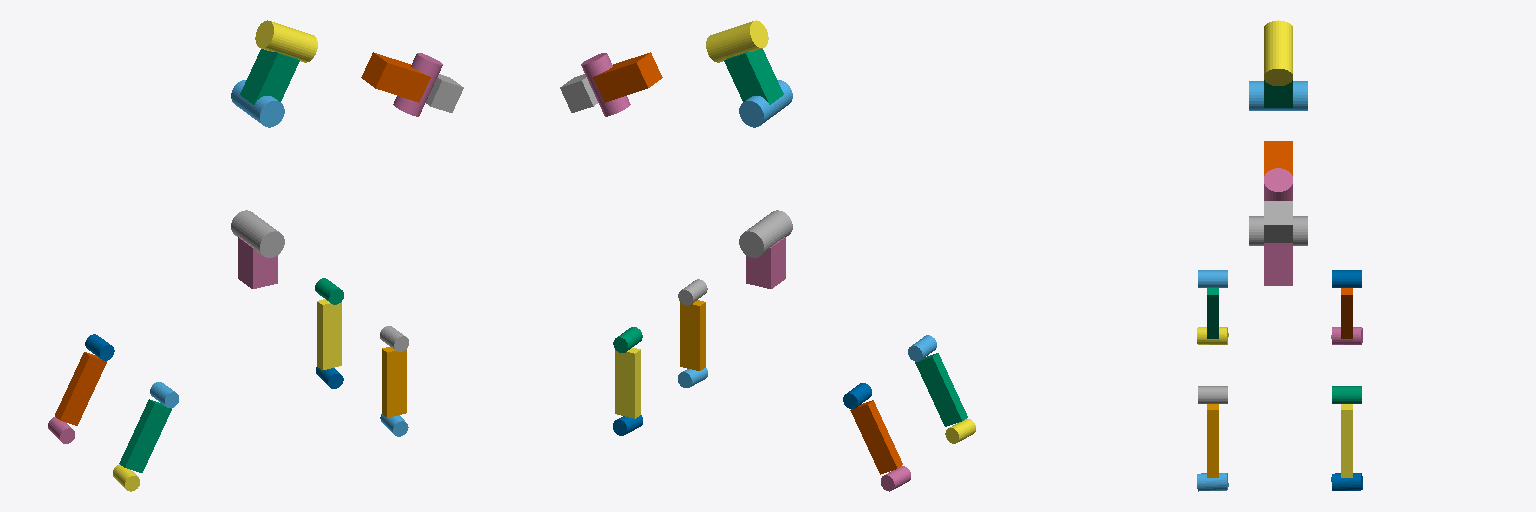
--- Facts derived from the render (not from the file) ---
3 views of the same robot in one strip: view 1: azimuth 30°, elevation 25°; view 2: azimuth 150°, elevation 25°; view 3: azimuth 270°, elevation 25° (orthographic).
Model quadruped_arm_robot with 32 links and 31 joints (17 revolute, 14 fixed), rooted at base_link, posed every joint at zero.
Visible links, largest first — view 1: Motor_square_3, Motor_square_2, backLeft_connector, backRight_connector, M3_50, frontLeft_connector, frontRight_connector, M1_100, Motor_square, M2_100, M4_50, endEfector; view 2: Motor_square_2, Motor_square_3, backLeft_connector, backRight_connector, frontLeft_connector, frontRight_connector, M3_50, M1_100, Motor_square, M2_100, M4_50, endEfector; view 3: M3_50, Motor_square, endEfector, M2_100, M1_100, frontLeft_connector, frontRight_connector, M4_50, Motor_square_3, Motor_square_2, backLeft_connector, backRight_connector (+4 smaller).
Boxes of the visible links, x1,y1,x2,y2 form: Motor_square_3: (361,52,430,102); Motor_square_2: (240,49,299,104); backLeft_connector: (55,352,106,425); backRight_connector: (119,399,171,472); M3_50: (255,20,317,62); frontLeft_connector: (317,299,341,370); frontRight_connector: (382,347,406,417); M1_100: (231,210,284,257); Motor_square: (238,237,277,288); M2_100: (231,80,284,127); M4_50: (393,53,442,116); endEfector: (426,74,463,112); Motor_square_2: (724,49,783,104); Motor_square_3: (593,52,662,102); backLeft_connector: (850,400,902,474); backRight_connector: (915,353,967,426); frontLeft_connector: (615,347,640,418); frontRight_connector: (680,300,705,370); M3_50: (706,20,768,62); M1_100: (739,210,792,257); Motor_square: (746,237,785,288); M2_100: (739,80,792,127); M4_50: (581,53,630,116); endEfector: (560,74,597,112); M3_50: (1264,20,1292,85); Motor_square: (1264,243,1292,285); endEfector: (1264,201,1292,242); M2_100: (1249,81,1307,110); M1_100: (1249,216,1307,245); frontLeft_connector: (1341,404,1352,477); frontRight_connector: (1207,404,1218,477); M4_50: (1264,168,1292,200); Motor_square_3: (1264,141,1292,175); Motor_square_2: (1264,80,1292,107); backLeft_connector: (1341,288,1352,338); backRight_connector: (1207,288,1218,338).
Size in the robot's own frame: 0.7426 by 0.2777 by 0.783 metres.
Geometry: only primitive shapes (box / cylinder / sphere) drawn; not drawn: 12 mesh visuals (reference in a form the renderer does not follow).

URDF robot description (quadruped_arm_robot):
<?xml version="1.0"?>
<robot name="quadruped_arm_robot">
  
  
 
  
  <link name="base_link">
    <inertial>
      <origin xyz="0  0 0"/>
      <mass value="0.400"/>
      <inertia ixx="0.0003" iyy="0.0003" izz="0.0003" ixy="0" ixz="0" iyz="0"/>
    </inertial>
    <visual>
    <origin xyz="0 0 0" rpy="0 0 0"/>
    <geometry>
      <mesh
        filename="[local-path]/ros2_orange/src/quadruped_arm_motion/meshes/Body.stl"
        scale="1 1 1"/>
    </geometry>
    </visual>
    <collision>
      <origin xyz="0 0 0" rpy="0 0 0"/>
      <geometry>
        <mesh
          filename="[local-path]/ros2_orange/src/quadruped_arm_motion/meshes/Body.stl"
          scale="1 1 1"/>
      </geometry>
      <surface>
        <friction>
          <ode>
            <mu>1.0</mu>
            <mu2>1.0</mu2>
          </ode>
        </friction>
        <contact>
          <ode>
            <kp>10</kp>
            <kd>50</kd>
          </ode>
        </contact>
      </surface>
    </collision>
  </link>
  
  <link name="frontLeft_hip_motor">
    <inertial><mass value="0.158"/><origin xyz="0 0 0"/>
      <inertia ixx="0.00016" iyy="0.00016" izz="0.00016" ixy="0" ixz="0" iyz="0"/></inertial>

    <inertial><mass value="0.158"/><origin xyz="0 0 0"/>
      <inertia ixx="0.00016" iyy="0.00016" izz="0.00016" ixy="0" ixz="0" iyz="0"/></inertial>
    <visual>
    <origin xyz="0.03 0.019 -0.08" rpy="0 0 0"/>
    <geometry>
      <mesh
        filename="[local-path]/ros2_orange/src/quadruped_arm_motion/meshes/servo_8y.stl"
        scale="1 1 1"/>
    </geometry>
    </visual>
    <collision>
      <origin xyz="0.03 0.019 -0.08" rpy="0 0 0"/>
      <geometry>
        <mesh
          filename="[local-path]/ros2_orange/src/quadruped_arm_motion/meshes/servo_8y.stl"
          scale="1 1 1"/>
      </geometry>
      <surface>
        <friction>
          <ode>
            <mu>1.0</mu>
            <mu2>1.0</mu2>
          </ode>
        </friction>
        <contact>
          <ode>
            <kp>10</kp>
            <kd>50</kd>
          </ode>
        </contact>
      </surface>
    </collision>
  </link>
  <joint name="frontLeft_hip_motor_joint" type="revolute">
    <parent link="base_link"/>
    <child  link="frontLeft_hip_motor"/>
    <origin xyz="0.235 0.03 0.03" rpy="0 1.5708 0"/>
    <axis xyz="0 0 1"/>
    <limit lower="-3.14" upper="3.14" effort="50.88" velocity="1"/>
    <dynamics damping="0.05" friction="2.5"/>
    <safety>
    <soft_lower_limit>-3.0</soft_lower_limit>
    <soft_upper_limit> 3.0</soft_upper_limit>
    <k_position> 50.0 </k_position>
    <k_velocity> 10.0  </k_velocity>
    </safety>
  </joint>

  <link name="frontLeft_knee">
    <inertial><mass value="0.001"/><origin xyz="0 0 0"/>
    <inertia ixx="0.00016" iyy="0.00016" izz="0.00016" ixy="0" ixz="0" iyz="0"/></inertial>
    <visual   ><geometry><cylinder radius="0.015" length="0.05"/></geometry></visual>
    <collision><geometry><cylinder radius="0.015" length="0.05"/></geometry>
    <surface><friction><ode><mu>1.0</mu><mu2>1.0</mu2></ode></friction><contact>
    <ode><kp>10</kp><kd>50</kd></ode></contact></surface>
    </collision>
  </link>
  <joint name="frontLeft_knee_joint" type="revolute">
    <parent link="frontLeft_hip_motor"/>
    <child  link="frontLeft_knee"/>
    <origin xyz="0.035 0.055 -0.025" rpy="1.5708 0 0"/>
    <axis xyz="0 0 1"/>
    <limit lower="-1.57" upper="1.57" effort="50.88" velocity="1"/>
    <dynamics damping="0.05" friction="2.5"/>
    <safety>
    <soft_lower_limit>-3.0</soft_lower_limit>
    <soft_upper_limit> 3.0</soft_upper_limit>
    <k_position> 50.0 </k_position>
    <k_velocity> 10.0  </k_velocity>
    </safety>
  </joint>
  <link name="frontLeft_connector">
    <inertial><mass value="0.05"/><origin xyz="0 0 0"/>
      <inertia ixx="0.00016" iyy="0.00016" izz="0.00016" ixy="0" ixz="0" iyz="0"/></inertial>
    <visual   ><geometry><box size="0.125 0.04 0.02" /></geometry></visual>
    <collision><geometry><box size="0.125 0.04 0.02" /></geometry>
    <surface><friction><ode><mu>1.0</mu><mu2>1.0</mu2></ode></friction><contact><ode><kp>10</kp><kd>50</kd></ode></contact></surface>
    </collision>
  </link>
  <joint name="frontLeft_connectorJoin" type="fixed">
    <parent link="frontLeft_knee"/>
    <child  link="frontLeft_connector"/>
    <origin xyz="0.08 0 0" rpy="0 0 0" />
    <axis xyz="0 0 1"/>
    <dynamics damping="0.05" friction="2.5"/>
    <safety>
    <soft_lower_limit>-3.0</soft_lower_limit>
    <soft_upper_limit> 3.0</soft_upper_limit>
    <param name="pos_kp">10</param>
    <param name="pos_ki">1</param>
    <param name="pos_kd">2</param>
    <param name="pos_max_integral_error">10000</param>
    <param name="vel_kp">10</param>
    <param name="vel_ki">5</param>
    <param name="vel_kd">2</param>
    <param name="vel_max_integral_error">10000</param>
    </safety>
  </joint> 

  <link name="frontLeft_ankle">
    <inertial><mass value="0.158"/><origin xyz="0 0 0"/>
    <inertia ixx="0.00016" iyy="0.00016" izz="0.00016" ixy="0" ixz="0" iyz="0"/></inertial>
    <visual   ><geometry><cylinder radius="0.015" length="0.05"/></geometry></visual>
     <collision><geometry><cylinder radius="0.015" length="0.05"/></geometry>
    <surface><friction><ode><mu>1.0</mu><mu2>1.0</mu2></ode>
    </friction><contact><ode><kp>10</kp><kd>50</kd></ode></contact></surface>
    </collision>
  </link>
  <joint name="frontLeft_ankle_joint" type="revolute">
    <parent link="frontLeft_connector"/>
    <child  link="frontLeft_ankle"/>
    <origin xyz="0.08 0 0" rpy="0.1 0 0.8"/>
    <axis xyz="0 0 1"/>
    <limit lower="-3.14" upper="3.14" effort="50.88" velocity="1"/>
    <dynamics damping="0.05" friction="2.5"/>
    <safety>
    <soft_lower_limit>-3.0</soft_lower_limit>
    <soft_upper_limit> 3.0</soft_upper_limit>
    <k_position> 50.0 </k_position>
    <k_velocity> 10.0  </k_velocity>
    </safety>
  </joint>

  <link name="frontLeft_foot">
    <inertial><mass value="0.03"/><origin xyz="0 0 0"/>
    <inertia ixx="2e-5" iyy="2e-5" izz="2e-5" ixy="0" ixz="0" iyz="0"/></inertial>
    <visual>
    <origin xyz="0 0 0" rpy="0 0 0"/>
    <geometry>
      <mesh
        filename="[local-path]/ros2_orange/src/quadruped_arm_motion/meshes/foot_3.stl"
        scale="1 1 1"/>
    </geometry>
    </visual>
    <collision>
    <origin xyz="0 0 0" rpy="0 0 0"/>
    <geometry>
      <mesh
        filename="[local-path]/ros2_orange/src/quadruped_arm_motion/meshes/foot_3.stl"
        scale="1 1 1"/>
    </geometry>
    <surface>
      <friction>
        <ode>
          <mu>1.0</mu>
          <mu2>1.0</mu2>
        </ode>
      </friction>
      <contact>
        <ode>
          <kp>10</kp>
          <kd>50</kd>
        </ode>
      </contact>
    </surface>
    </collision>
  </link>
  <joint name="frontLeft_foot_joint" type="fixed">
    <parent link="frontLeft_ankle"/>
    <child  link="frontLeft_foot"/>
    <origin xyz="0.06 0 0"/>
    <dynamics damping="0.05" friction="2.5"/>
     
    <safety>
    <soft_lower_limit>-3.0</soft_lower_limit>
    <soft_upper_limit> 3.0</soft_upper_limit>
    <k_position> 50.0 </k_position>
    <k_velocity> 10.0  </k_velocity>
    </safety>
  </joint>
 
  <link name="frontRight_hip_motor">
    <inertial><mass value="0.158"/><origin xyz="0 0 0"/>
      <inertia ixx="0.00016" iyy="0.00016" izz="0.00016" ixy="0" ixz="0" iyz="0"/></inertial>
    <visual>
    <origin xyz="0.03 0.005 -0.08" rpy="0 0 0"/>
    <geometry>
      <mesh
        filename="[local-path]/ros2_orange/src/quadruped_arm_motion/meshes/servo_7y.stl"
        scale="1 1 1"/>
    </geometry>
    </visual>
    <collision>
      <origin xyz="0.03 -0.005 -0.08" rpy="0 0 0"/>
      <geometry>
        <mesh
          filename="[local-path]/ros2_orange/src/quadruped_arm_motion/meshes/servo_7y.stl"
          scale="1 1 1"/>
      </geometry>
      <surface>
        <friction>
          <ode>
            <mu>1.0</mu>
            <mu2>1.0</mu2>
          </ode>
        </friction>
        <contact>
          <ode>
            <kp>10</kp>
            <kd>50</kd>
          </ode>
        </contact>
      </surface>
    </collision>
  </link>
  <joint name="frontRight_hip_motor_joint" type="revolute">
    <parent link="base_link"/>
    <child  link="frontRight_hip_motor"/>
    <origin xyz="0.235 -0.085 0.03" rpy="0 1.5708 0"/>
    <axis xyz="0 0 1"/>
    <limit lower="-3.14" upper="3.14" effort="50.88" velocity="1"/>
    <dynamics damping="0.05" friction="2.5"/>
    <safety>
    <soft_lower_limit>-3.0</soft_lower_limit>
    <soft_upper_limit> 3.0</soft_upper_limit>
    <k_position> 50.0 </k_position>
    <k_velocity> 10.0  </k_velocity>
    </safety>
  </joint>

  <link name="frontRight_knee">
    <inertial><mass value="0.158"/><origin xyz="0 0 0"/>
      <inertia ixx="0.00016" iyy="0.00016" izz="0.00016" ixy="0" ixz="0" iyz="0"/></inertial>
    <visual   ><geometry><cylinder radius="0.015" length="0.05"/></geometry></visual>
    <collision><geometry><cylinder radius="0.015" length="0.05"/></geometry>
    <surface><friction><ode><mu>1.0</mu><mu2>1.0</mu2></ode></friction><contact><ode><kp>10</kp><kd>50</kd></ode></contact></surface>
    </collision>
  </link>
  <joint name="frontRight_knee_joint" type="revolute">
    <parent link="frontRight_hip_motor"/>
    <child  link="frontRight_knee"/>
    <origin xyz="0.035 -0.055 -0.025" rpy="1.5708 0 0"/>
    <axis xyz="0 0 1"/>
    <limit lower="-1.57" upper="1.57" effort="50.88" velocity="1"/>
    <dynamics damping="0.05" friction="2.5"/>
    <safety>
    <soft_lower_limit>-3.0</soft_lower_limit>
    <soft_upper_limit> 3.0</soft_upper_limit>
    <k_position> 50.0 </k_position>
    <k_velocity> 10.0  </k_velocity>
    </safety>
  </joint>

  <link name="frontRight_connector">
    <inertial><mass value="0.05"/><origin xyz="0 0 0"/>
      <inertia ixx="0.00016" iyy="0.00016" izz="0.00016" ixy="0" ixz="0" iyz="0"/></inertial>
    <visual   ><geometry><box size="0.125 0.04 0.02" /></geometry></visual>
    <collision><geometry><box size="0.125 0.04 0.02" /></geometry>
    <surface><friction><ode><mu>1.0</mu><mu2>1.0</mu2></ode></friction><contact><ode><kp>10</kp><kd>50</kd></ode></contact></surface>
    </collision>
  </link>
  <joint name="frontRight_connectorJoin" type="fixed">
    <parent link="frontRight_knee"/>
    <child  link="frontRight_connector"/>
    <origin xyz="0.08 0 0" rpy="0 0 0" />
    <axis xyz="0 0 1"/>
    <dynamics damping="0.05" friction="2.5"/>
    <safety>
    <soft_lower_limit>-3.0</soft_lower_limit>
    <soft_upper_limit> 3.0</soft_upper_limit>
    <param name="pos_kp">10</param>
    <param name="pos_ki">1</param>
    <param name="pos_kd">2</param>
    <param name="pos_max_integral_error">10000</param>
    <param name="vel_kp">10</param>
    <param name="vel_ki">5</param>
    <param name="vel_kd">2</param>
    <param name="vel_max_integral_error">10000</param>
    </safety>
  </joint> 


  <link name="frontRight_ankle">
    <inertial><mass value="0.158"/><origin xyz="0 0 0"/>
    <inertia ixx="0.00016" iyy="0.00016" izz="0.00016" ixy="0" ixz="0" iyz="0"/></inertial>
    <visual   ><geometry><cylinder radius="0.015" length="0.05"/></geometry></visual>
     <collision><geometry><cylinder radius="0.015" length="0.05"/></geometry>
    <surface><friction><ode><mu>1.0</mu><mu2>1.0</mu2></ode>
    </friction><contact><ode><kp>10</kp><kd>50</kd></ode></contact></surface>
    </collision>
  </link>
  <joint name="frontRight_ankle_joint" type="revolute">
    <parent link="frontRight_connector"/>
    <child  link="frontRight_ankle"/>
    <origin xyz="0.08 0 0" rpy="0.1 0 0.8"/>
    <axis xyz="0 0 1"/>
    <limit lower="-3.14" upper="3.14" effort="50.88" velocity="1"/>
    <dynamics damping="0.05" friction="2.5"/>
    <safety>
    <soft_lower_limit>-3.0</soft_lower_limit>
    <soft_upper_limit> 3.0</soft_upper_limit>
    <k_position> 50.0 </k_position>
    <k_velocity> 10.0  </k_velocity>
    </safety>
  </joint>

  <link name="frontRight_foot">
    <inertial><mass value="0.03"/><origin xyz="0 0 0"/>
      <inertia ixx="2e-5" iyy="2e-5" izz="2e-5" ixy="0" ixz="0" iyz="0"/></inertial>
    <visual>
    <origin xyz="0 0 0" rpy="0 0 0"/>
    <geometry>
      <mesh
        filename="[local-path]/ros2_orange/src/quadruped_arm_motion/meshes/foot_3.stl"
        scale="1 1 1"/>
    </geometry>
    </visual>
    <collision>
    <origin xyz="0 0 0" rpy="0 0 0"/>
    <geometry>
      <mesh
        filename="[local-path]/ros2_orange/src/quadruped_arm_motion/meshes/foot_3.stl"
        scale="1 1 1"/>
    </geometry>
    <surface>
      <friction>
        <ode>
          <mu>1.0</mu>
          <mu2>1.0</mu2>
        </ode>
      </friction>
      <contact>
        <ode>
          <kp>10</kp>
          <kd>50</kd>
        </ode>
      </contact>
    </surface>
    </collision>
  </link>
  <joint name="frontRight_foot_joint" type="fixed">
    <parent link="frontRight_ankle"/>
    <child  link="frontRight_foot"/>
    <origin xyz="0.06 0 0"/>
     
    <dynamics damping="0.05" friction="2.5"/>
    <safety>
    <soft_lower_limit>-3.0</soft_lower_limit>
    <soft_upper_limit> 3.0</soft_upper_limit>
    <k_position> 50.0 </k_position>
    <k_velocity> 10.0  </k_velocity>
    </safety>
  </joint>
  
  <link name="backLeft_hip_motor">
    <inertial><mass value="0.158"/><origin xyz="0 0 0"/>
    <inertia ixx="0.00016" iyy="0.00016" izz="0.00016" ixy="0" ixz="0" iyz="0"/></inertial>
    <visual>
    <origin xyz="0.035 0.035 -0.05" rpy="0 0 0"/> <!-- Altuura dentro -lado -->
    <geometry>
      <mesh
        filename="[local-path]/ros2_orange/src/quadruped_arm_motion/meshes/servo_8y.stl"
        scale="1 1 1"/>
    </geometry>
    </visual>
    <collision>
      <origin xyz="0.035 0.035 -0.05" rpy="0 0 0"/>
      <geometry>
        <mesh
          filename="[local-path]/ros2_orange/src/quadruped_arm_motion/meshes/servo_8y.stl"
          scale="1 1 1"/>
      </geometry>
      <surface>
        <friction>
          <ode>
            <mu>1.0</mu>
            <mu2>1.0</mu2>
          </ode>
        </friction>
        <contact>
          <ode>
            <kp>10</kp>
            <kd>50</kd>
          </ode>
        </contact>
      </surface>
    </collision>
  </link>
  <joint name="backLeft_hip_motor_joint" type="revolute">
    <parent link="base_link"/>
    <child  link="backLeft_hip_motor"/>
    <origin xyz="-0.275 0.03 0.03" rpy="0 1.5708 0"/>
    <axis xyz="0 0 1"/>
    <limit lower="-3.14" upper="3.14" effort="50.88" velocity="1"/>
    <dynamics damping="0.05" friction="2.5"/>
    <safety>
    <soft_lower_limit>-3.0</soft_lower_limit>
    <soft_upper_limit> 3.0</soft_upper_limit>
    <k_position> 50.0 </k_position>
    <k_velocity> 10.0  </k_velocity>
    </safety>
  </joint>

  <link name="backLeft_knee">
    <inertial><mass value="0.158"/><origin xyz="0 0 0"/>
      <inertia ixx="0.00016" iyy="0.00016" izz="0.00016" ixy="0" ixz="0" iyz="0"/></inertial>
    <visual   ><geometry><cylinder radius="0.015" length="0.05"/></geometry></visual>
    <collision><geometry><cylinder radius="0.015" length="0.05"/></geometry>
    <surface><friction><ode><mu>1.0</mu><mu2>1.0</mu2></ode></friction><contact><ode><kp>10</kp><kd>50</kd></ode></contact></surface>
    </collision>
  </link>
  <joint name="backLeft_knee_joint" type="revolute">
    <parent link="backLeft_hip_motor"/>
    <child  link="backLeft_knee"/>
    <origin xyz="0.035 0.055 0.025" rpy="1.5708 0.5 0"/>
    <axis xyz="0 0 1"/>
    <limit lower="-1.57" upper="1.57" effort="50.88" velocity="1"/>
    <dynamics damping="0.05" friction="2.5"/>
    <safety>
    <soft_lower_limit>-3.0</soft_lower_limit>
    <soft_upper_limit> 3.0</soft_upper_limit>
    <k_position> 50.0 </k_position>
    <k_velocity> 10.0  </k_velocity>
    </safety>
  </joint>

  <link name="backLeft_connector">
    <inertial><mass value="0.05"/><origin xyz="0 0 0"/>
      <inertia ixx="0.00016" iyy="0.00016" izz="0.00016" ixy="0" ixz="0" iyz="0"/></inertial>
    <visual   ><geometry><box size="0.125 0.04 0.02" /></geometry></visual>
    <collision><geometry><box size="0.125 0.04 0.02" /></geometry>
    <surface><friction><ode><mu>1.0</mu><mu2>1.0</mu2></ode></friction><contact><ode><kp>10</kp><kd>50</kd></ode></contact></surface>
    </collision>
  </link>
  <joint name="backLeft_connectorJoin" type="fixed">
    <parent link="backLeft_knee"/>
    <child  link="backLeft_connector"/>
    <origin xyz="0.08 0 0" rpy="0 0 0" />
    <axis xyz="0 0 1"/>
    <dynamics damping="0.05" friction="2.5"/>
    <safety>
    <soft_lower_limit>-3.0</soft_lower_limit>
    <soft_upper_limit> 3.0</soft_upper_limit>
    <param name="pos_kp">10</param>
    <param name="pos_ki">1</param>
    <param name="pos_kd">2</param>
    <param name="pos_max_integral_error">10000</param>
    <param name="vel_kp">10</param>
    <param name="vel_ki">5</param>
    <param name="vel_kd">2</param>
    <param name="vel_max_integral_error">10000</param>
    </safety>
  </joint>

  <link name="backLeft_ankle">
    <inertial><mass value="0.158"/><origin xyz="0 0 0"/>
    <inertia ixx="0.00016" iyy="0.00016" izz="0.00016" ixy="0" ixz="0" iyz="0"/></inertial>
    <visual   ><geometry><cylinder radius="0.015" length="0.05"/></geometry></visual>
     <collision><geometry><cylinder radius="0.015" length="0.05"/></geometry>
    <surface><friction><ode><mu>1.0</mu><mu2>1.0</mu2></ode>
    </friction><contact><ode><kp>10</kp><kd>50</kd></ode></contact></surface>
    </collision>
  </link>
  <joint name="backLeft_ankle_joint" type="revolute">
    <parent link="backLeft_connector"/>
    <child  link="backLeft_ankle"/>
    <origin xyz="0.08 0 0" rpy="0.1 0 0.8"/>
    <axis xyz="0 0 1"/>
    <limit lower="-3.14" upper="3.14" effort="50.88" velocity="1"/>
    <dynamics damping="0.05" friction="2.5"/>
    <safety>
    <soft_lower_limit>-3.0</soft_lower_limit>
    <soft_upper_limit> 3.0</soft_upper_limit>
    <k_position> 50.0 </k_position>
    <k_velocity> 10.0  </k_velocity>
    </safety>
  </joint>

  <link name="backLeft_foot">
    <inertial><mass value="0.03"/><origin xyz="0 0 0"/>
      <inertia ixx="2e-5" iyy="2e-5" izz="2e-5" ixy="0" ixz="0" iyz="0"/></inertial>
    <visual>
    <origin xyz="0 0 0" rpy="0 0 0"/>
    <geometry>
      <mesh
        filename="[local-path]/ros2_orange/src/quadruped_arm_motion/meshes/foot_3.stl"
        scale="1 1 1"/>
    </geometry>
    </visual>
    <collision>
    <origin xyz="0 0 0" rpy="0 0 0"/>
    <geometry>
      <mesh
        filename="[local-path]/ros2_orange/src/quadruped_arm_motion/meshes/foot_3.stl"
        scale="1 1 1"/>
    </geometry>
    <surface>
      <friction>
        <ode>
          <mu>1.0</mu>
          <mu2>1.0</mu2>
        </ode>
      </friction>
      <contact>
        <ode>
          <kp>10</kp>
          <kd>50</kd>
        </ode>
      </contact>
    </surface>
    </collision>
  </link>
  <joint name="backLeft_foot_joint" type="fixed">
    <parent link="backLeft_ankle"/>
    <child  link="backLeft_foot"/>
    <origin xyz="0.06 0 0"/>
     
    <dynamics damping="0.05" friction="2.5"/>
    <safety>
    <soft_lower_limit>-3.0</soft_lower_limit>
    <soft_upper_limit> 3.0</soft_upper_limit>
    <k_position> 50.0 </k_position>
    <k_velocity> 10.0  </k_velocity>
    </safety>
  </joint>
 
  <link name="backRight_hip_motor">
    <inertial><mass value="0.158"/><origin xyz="0 0 0"/>
      <inertia ixx="0.00016" iyy="0.00016" izz="0.00016" ixy="0" ixz="0" iyz="0"/></inertial>
    <visual>
    <origin xyz="0.035 0.021  -0.06" rpy="0 0 0"/>
    <geometry>
      <mesh
        filename="[local-path]/ros2_orange/src/quadruped_arm_motion/meshes/servo_7y.stl"
        scale="1 1 1"/>
    </geometry>
    </visual>
    <collision>
      <origin xyz="0.045 0.015  -0.06" rpy="0 0 0"/>
      <geometry>
        <mesh
          filename="[local-path]/ros2_orange/src/quadruped_arm_motion/meshes/servo_7y.stl"
          scale="1 1 1"/>
      </geometry>
      <surface>
        <friction>
          <ode>
            <mu>1.0</mu>
            <mu2>1.0</mu2>
          </ode>
        </friction>
        <contact>
          <ode>
            <kp>10</kp>
            <kd>50</kd>
          </ode>
        </contact>
      </surface>
    </collision>
  </link>
  <joint name="backRight_hip_motor_joint" type="revolute">
    <parent link="base_link"/>
    <child  link="backRight_hip_motor"/>
    <origin xyz="-0.275 -0.085 0.03" rpy="0 1.5708 0"/>
    <axis xyz="0 0 1"/>
    <limit lower="-3.14" upper="3.14" effort="50.88" velocity="1"/>
    <dynamics damping="0.05" friction="2.5"/>
    <safety>
    <soft_lower_limit>-3.0</soft_lower_limit>
    <soft_upper_limit> 3.0</soft_upper_limit>
    <k_position> 50.0 </k_position>
    <k_velocity> 10.0  </k_velocity>
    </safety>
  </joint>
  
  <link name="backRight_knee">
    <inertial><mass value="0.158"/><origin xyz="0.1 0.1 0"/>
      <inertia ixx="0.00016" iyy="0.00016" izz="0.00016" ixy="0" ixz="0" iyz="0"/></inertial>
    <visual   ><geometry><cylinder radius="0.015" length="0.05"/></geometry></visual>
    <collision><geometry><cylinder radius="0.015" length="0.05"/></geometry>
    <surface><friction><ode><mu>1.0</mu><mu2>1.0</mu2></ode>
    </friction><contact><ode><kp>10</kp><kd>50</kd></ode></contact></surface>
    </collision>
  </link>
  <joint name="backRight_knee_joint" type="revolute">
    <parent link="backRight_hip_motor"/>
    <child  link="backRight_knee"/>
    <origin xyz="0.035 -0.055 0.025" rpy="1.5708 0.5 0"/>
    <axis xyz="0 0 1"/>
    <limit lower="-1.57" upper="1.57" effort="50.88" velocity="1"/>
    <dynamics damping="0.05" friction="2.5"/>
    <safety>
    <soft_lower_limit>-3.0</soft_lower_limit>
    <soft_upper_limit> 3.0</soft_upper_limit>
    <k_position> 50.0 </k_position>
    <k_velocity> 10.0  </k_velocity>
  </safety>
  </joint>

  <link name="backRight_connector">
    <inertial><mass value="0.05"/><origin xyz="0 0 0"/>
      <inertia ixx="0.00016" iyy="0.00016" izz="0.00016" ixy="0" ixz="0" iyz="0"/></inertial>
    <visual   ><geometry><box size="0.125 0.04 0.02" /></geometry></visual>
    <collision><geometry><box size="0.125 0.04 0.02" /></geometry>
    <surface><friction><ode><mu>1.0</mu><mu2>1.0</mu2></ode></friction><contact><ode><kp>10</kp><kd>50</kd></ode></contact></surface>
    </collision>
  </link>
  <joint name="backRight_connectorJoin" type="fixed">
    <parent link="backRight_knee"/>
    <child  link="backRight_connector"/>
    <origin xyz="0.08 0 0" rpy="0 0 0" />
    <axis xyz="0 0 1"/>
    <dynamics damping="0.05" friction="2.5"/>
    <safety>
    <soft_lower_limit>-3.0</soft_lower_limit>
    <soft_upper_limit> 3.0</soft_upper_limit>
    <param name="pos_kp">10</param>
    <param name="pos_ki">1</param>
    <param name="pos_kd">2</param>
    <param name="pos_max_integral_error">10000</param>
    <param name="vel_kp">10</param>
    <param name="vel_ki">5</param>
    <param name="vel_kd">2</param>
    <param name="vel_max_integral_error">10000</param>
    </safety>
  </joint>

  <link name="backRight_ankle">
    <inertial><mass value="0.158"/><origin xyz="0 0 0"/>
    <inertia ixx="0.00016" iyy="0.00016" izz="0.00016" ixy="0" ixz="0" iyz="0"/></inertial>
     <visual   ><geometry><cylinder radius="0.015" length="0.05"/></geometry></visual>
     <collision><geometry><cylinder radius="0.015" length="0.05"/></geometry>
    <surface><friction><ode><mu>1.0</mu><mu2>1.0</mu2></ode>
    </friction><contact><ode><kp>10</kp><kd>50</kd></ode></contact></surface>
    </collision>
  </link>
  <joint name="backRight_ankle_joint" type="revolute">
    <parent link="backRight_connector"/>
    <child  link="backRight_ankle"/>
    <origin xyz="0.08 0 0" rpy="0.1 0 0.8"/>
    <axis xyz="0 0 1"/>
    <limit lower="-3.14" upper="3.14" effort="50.88" velocity="1"/>
    <dynamics damping="0.05" friction="2.5"/>
    <safety>
    <soft_lower_limit>-3.0</soft_lower_limit>
    <soft_upper_limit> 3.0</soft_upper_limit>
    <k_position> 50.0 </k_position>
    <k_velocity> 10.0  </k_velocity>
    </safety>
  </joint>

  <link name="backRight_foot">
    <inertial><mass value="0.03"/><origin xyz="0 0 0" rpy="0 0 0"/>
    <inertia ixx="2e-5" iyy="2e-5" izz="2e-5" ixy="0" ixz="0" iyz="0"/></inertial>
    <visual>
    <origin xyz="0 0 0" rpy="0 0 0"/>
    <geometry>
      <mesh
        filename="[local-path]/ros2_orange/src/quadruped_arm_motion/meshes/foot_3.stl"
        scale="1 1 1"/>
    </geometry>
    </visual>
    <collision>
      <origin xyz="0 0 0" rpy="0 0 0"/>
      <geometry>
        <mesh
          filename="[local-path]/ros2_orange/src/quadruped_arm_motion/meshes/foot_3.stl"
          scale="1 1 1"/>
      </geometry>
      <surface>
        <friction>
          <ode>
            <mu>1.0</mu>
            <mu2>1.0</mu2>
          </ode>
        </friction>
        <contact>
          <ode>
            <kp>10</kp>
            <kd>50</kd>
          </ode>
        </contact>
      </surface>
    </collision>
  </link>
  <joint name="backRight_foot_joint" type="fixed">
    <parent link="backRight_ankle"/>
    <child  link="backRight_foot"/>
    <origin xyz="0.06 0 0"/>
    <dynamics damping="0.05" friction="2.5"/>
    <safety>
    <soft_lower_limit>-3.0</soft_lower_limit>
    <soft_upper_limit> 3.0</soft_upper_limit>
    <k_position> 50.0 </k_position>
    <k_velocity> 10.0  </k_velocity>
  </safety>
  </joint>

  <link name="M0_big">
    <inertial><mass value="0.158"/><origin xyz="0 0 0"/>
      <inertia ixx="0.00016" iyy="0.00016" izz="0.00016" ixy="0" ixz="0" iyz="0"/></inertial>
    <visual>
    <origin xyz="0.04 0 -0.02" rpy="0 0 0"/>
    <geometry>
      <mesh
        filename="[local-path]/ros2_orange/src/quadruped_arm_motion/meshes/M0.stl"
        scale="1 1 1"/>
    </geometry>
    </visual>0
    <collision>
      <origin xyz="0.04 0 -0.02" rpy="0 0 0"/>
      <geometry>
        <mesh
          filename="[local-path]/ros2_orange/src/quadruped_arm_motion/meshes/M0.stl"
          scale="1 1 1"/>
      </geometry>
      <surface>
        <friction>
          <ode>
            <mu>1.0</mu>
            <mu2>1.0</mu2>
          </ode>
        </friction>
        <contact>
          <ode>
            <kp>10</kp>
            <kd>50</kd>
          </ode>
        </contact>
      </surface>
    </collision>
  </link>
  <joint name="articulacion1" type="revolute">
    <parent link="base_link"/>
    <child  link="M0_big"/>
    <origin xyz="0 -0.03 0.1" rpy="0 0 0"/>
    <axis xyz="0 0 1"/>
    <limit lower="-1.14" upper="1.14" effort="49.03325" velocity="1"/>
    <dynamics damping="0.05" friction="2.5"/>
    <safety>
    <soft_lower_limit>-1.0</soft_lower_limit>
    <soft_upper_limit> 1.0</soft_upper_limit>
    <param name="pos_kp">10</param>
    <param name="pos_ki">1</param>
    <param name="pos_kd">2</param>
    <param name="pos_max_integral_error">10000</param>
    <param name="vel_kp">10</param>
    <param name="vel_ki">5</param>
    <param name="vel_kd">2</param>
    <param name="vel_max_integral_error">10000</param>
    </safety>
  </joint>
  <link name="Motor_square">
    <inertial><mass value="0.08158"/><origin xyz="0 0 0"/>
      <inertia ixx="0.00016" iyy="0.00016" izz="0.00016" ixy="0" ixz="0" iyz="0"/></inertial>
    <visual   ><geometry><box size="0.05 0.05 0.08" /></geometry></visual>
    <collision><geometry><box size="0.05 0.05 0.08" /></geometry>
    <surface><friction><ode><mu>1.0</mu><mu2>1.0</mu2></ode></friction><contact><ode><kp>10</kp><kd>50</kd></ode></contact></surface>
    </collision>
  </link>
  <joint name="Motor_square_Join" type="fixed">
    <parent link="M0_big"/>
    <child  link="Motor_square"/>
    <origin xyz="0.0 0 0.05" rpy="0 0 0" />
    <axis xyz="0 0 0"/>
    <dynamics damping="0.05" friction="2.5"/>
    <safety>
    <soft_lower_limit>-3.0</soft_lower_limit>
    <soft_upper_limit> 3.0</soft_upper_limit>
    <param name="pos_kp">10</param>
    <param name="pos_ki">1</param>
    <param name="pos_kd">2</param>
    <param name="pos_max_integral_error">10000</param>
    <param name="vel_kp">10</param>
    <param name="vel_ki">5</param>
    <param name="vel_kd">2</param>
    <param name="vel_max_integral_error">10000</param>
    </safety>
  </joint> 

  <link name="M1_100">
    <inertial><mass value="0.158"/><origin xyz="0 0 0"/>
      <inertia ixx="0.00016" iyy="0.00016" izz="0.00016" ixy="0" ixz="0" iyz="0"/></inertial>
    <visual   ><geometry><cylinder radius="0.025" length="0.1"/></geometry></visual>
    <collision><geometry><cylinder radius="0.025" length="0.1"/></geometry>
    <surface><friction><ode><mu>1.0</mu><mu2>1.0</mu2></ode></friction><contact><ode><kp>10</kp><kd>50</kd></ode></contact></surface>
    </collision>
  </link>
  <joint name="articulacion2" type="revolute">
    <parent link="Motor_square"/>
    <child  link="M1_100"/>
    <origin xyz="0.0 0 0.05" rpy="-1.5708 0.0 0" />
    <axis xyz="0 0 1"/>
   <limit lower="-1.14" upper="1.14" effort="49.03325" velocity="1"/>
    <dynamics damping="0.05" friction="2.5"/>
    <safety>
    <soft_lower_limit>-1.0</soft_lower_limit>
    <soft_upper_limit> 1.0</soft_upper_limit>
    <param name="pos_kp">10</param>
    <param name="pos_ki">1</param>
    <param name="pos_kd">2</param>
    <param name="pos_max_integral_error">10000</param>
    <param name="vel_kp">10</param>
    <param name="vel_ki">5</param>
    <param name="vel_kd">2</param>
    <param name="vel_max_integral_error">10000</param>
    </safety>
  </joint>
  <link name="Connector_1">
    <inertial><mass value="0.05"/><origin xyz="0 0 0"/>
      <inertia ixx="0.00016" iyy="0.00016" izz="0.00016" ixy="0" ixz="0" iyz="0"/></inertial>
    <visual>
    <origin xyz="0.0 0 0" rpy="0 1.578 0"/>
    <geometry>
      <mesh
        filename="[local-path]/ros2_orange/src/quadruped_arm_motion/meshes/arm_200.stl"
        scale="1 1 1"/>
    </geometry>
    </visual>
    <collision>
      <origin xyz="0.0 0 0" rpy="0 1.578 0"/>
      <geometry>
        <mesh
          filename="[local-path]/ros2_orange/src/quadruped_arm_motion/meshes/arm_200.stl"
          scale="1 1 1"/>
      </geometry>
      <surface>
        <friction>
          <ode>
            <mu>1.0</mu>
            <mu2>1.0</mu2>
          </ode>
        </friction>
        <contact>
          <ode>
            <kp>10</kp>
            <kd>50</kd>
          </ode>
        </contact>
      </surface>
    </collision>
  </link>
  <joint name="Connector_1_join" type="fixed">
    <parent link="M1_100"/>
    <child  link="Connector_1"/>
    <origin xyz="0.0 0 0" rpy="0 0 0" />
    <axis xyz="0 0 1"/>
    <dynamics damping="0.05" friction="2.5"/>
    <safety>
    <soft_lower_limit>-3.0</soft_lower_limit>
    <soft_upper_limit> 3.0</soft_upper_limit>
    <param name="pos_kp">10</param>
    <param name="pos_ki">1</param>
    <param name="pos_kd">2</param>
    <param name="pos_max_integral_error">10000</param>
    <param name="vel_kp">10</param>
    <param name="vel_ki">5</param>
    <param name="vel_kd">2</param>
    <param name="vel_max_integral_error">10000</param>
    </safety>
  </joint>
  <link name="M2_100">
    <inertial><mass value="0.08158"/><origin xyz="0 0 0"/>
      <inertia ixx="0.00016" iyy="0.00016" izz="0.00016" ixy="0" ixz="0" iyz="0"/></inertial>
    <visual   ><geometry><cylinder radius="0.025" length="0.1"/></geometry></visual>
    <collision><geometry><cylinder radius="0.025" length="0.1"/></geometry>
    <surface><friction><ode><mu>1.0</mu><mu2>1.0</mu2></ode></friction><contact><ode><kp>10</kp><kd>50</kd></ode></contact></surface>
    </collision>
  </link>
  <joint name="articulacion3" type="revolute">
    <parent link="Connector_1"/>
    <child  link="M2_100"/>
    <origin xyz="0.0 -0.25  0  " rpy="0 0 0.5" />
    <axis xyz="0 0 1"/>
    <limit lower="-1.14" upper="1.14" effort="49.03325" velocity="1"/>
    <dynamics damping="0.05" friction="2.5"/>
    <safety>
    <soft_lower_limit>-1.0</soft_lower_limit>
    <soft_upper_limit> 1.0</soft_upper_limit>
    <param name="pos_kp">10</param>
    <param name="pos_ki">1</param>
    <param name="pos_kd">2</param>
    <param name="pos_max_integral_error">10000</param>
    <param name="vel_kp">10</param>
    <param name="vel_ki">5</param>
    <param name="vel_kd">2</param>
    <param name="vel_max_integral_error">10000</param>
  </safety>
  </joint>
  <link name="Motor_square_2">
    <inertial><mass value="0.08158"/><origin xyz="0 0 0"/>
      <inertia ixx="0.00016" iyy="0.00016" izz="0.00016" ixy="0" ixz="0" iyz="0"/></inertial>
    <visual   ><geometry><box size="0.05 0.1 0.05" /></geometry></visual>
    <collision><geometry><box size="0.05 0.1 0.05" /></geometry>
    <surface><friction><ode><mu>1.0</mu><mu2>1.0</mu2></ode></friction><contact><ode><kp>10</kp><kd>50</kd></ode></contact></surface>
    </collision>
  </link>
  <joint name="Motor_square_2_Join" type="fixed">
    <parent link="M2_100"/>
    <child  link="Motor_square_2"/>
    <origin xyz="0.0 -0.05 0" rpy="0 0 0" />
    <axis xyz="0 0 0"/>
    <dynamics damping="0.05" friction="2.5"/>
    <safety>
    <soft_lower_limit>-3.0</soft_lower_limit>
    <soft_upper_limit> 3.0</soft_upper_limit>
    <param name="pos_kp">10</param>
    <param name="pos_ki">1</param>
    <param name="pos_kd">2</param>
    <param name="pos_max_integral_error">10000</param>
    <param name="vel_kp">10</param>
    <param name="vel_ki">5</param>
    <param name="vel_kd">2</param>
    <param name="vel_max_integral_error">10000</param>
    </safety>
  </joint> 
  <link name="M3_50">
    <inertial><mass value="0.08158"/><origin xyz="0 0 0"/>
    <inertia ixx="0.00016" iyy="0.00016" izz="0.00016" ixy="0" ixz="0" iyz="0"/></inertial>
    <visual   ><geometry><cylinder radius="0.025" length="0.1"/></geometry></visual>
    <collision><geometry><cylinder radius="0.025" length="0.1"/></geometry>
    <surface><friction><ode><mu>1.0</mu><mu2>1.0</mu2></ode></friction><contact><ode><kp>10</kp><kd>50</kd></ode></contact></surface>
    </collision>
  </link>
  <joint name="articulacion4" type="revolute">
    <parent link="Motor_square_2"/>
    <child  link="M3_50"/>
    <origin xyz="0 -0.07 0" rpy=" 0 1.5708 0" />
    <axis xyz="0 0 1"/>
    <limit lower="-1.14" upper="1.14" effort="49.03325" velocity="1"/>
    <dynamics damping="0.05" friction="2.5"/>
    <safety>
      <soft_lower_limit>-1.0</soft_lower_limit>
      <soft_upper_limit> 1.0</soft_upper_limit>
      <param name="pos_kp">10</param>
      <param name="pos_ki">1</param>
      <param name="pos_kd">2</param>
      <param name="pos_max_integral_error">10000</param>
      <param name="vel_kp">10</param>
      <param name="vel_ki">5</param>
      <param name="vel_kd">2</param>
      <param name="vel_max_integral_error">10000</param>
    </safety>
  </joint>
  <link name="Connector_2">
    <inertial><mass value="0.05"/><origin xyz="0 0 0"/>
      <inertia ixx="0.00016" iyy="0.00016" izz="0.00016" ixy="0" ixz="0" iyz="0"/></inertial>
    <visual>
    <origin xyz="0.0 0 0" rpy="-1.578 0 0"/>
    <geometry>
      <mesh
        filename="[local-path]/ros2_orange/src/quadruped_arm_motion/meshes/arm_200.stl"
        scale="1 1 1"/>
    </geometry>
    </visual>
    <collision>
      <origin xyz="0.0 0 0" rpy="-1.578 0 0"/>
      <geometry>
        <mesh
          filename="[local-path]/ros2_orange/src/quadruped_arm_motion/meshes/arm_200.stl"
          scale="1 1 1"/>
      </geometry>
      <surface>
        <friction>
          <ode>
            <mu>1.0</mu>
            <mu2>1.0</mu2>
          </ode>
        </friction>
        <contact>
          <ode>
            <kp>10</kp>
            <kd>50</kd>
          </ode>
        </contact>
      </surface>
    </collision>
  </link>
  <joint name="Connector_2_join" type="fixed">
    <parent link="M3_50"/>
    <child  link="Connector_2"/>
    <origin xyz="0.0 0 0" rpy="0 0 0" />
    <axis xyz="0 0 1"/>
    <dynamics damping="0.05" friction="2.5"/>
    <safety>
    <soft_lower_limit>-3.0</soft_lower_limit>
    <soft_upper_limit> 3.0</soft_upper_limit>
    <param name="pos_kp">10</param>
    <param name="pos_ki">1</param>
    <param name="pos_kd">2</param>
    <param name="pos_max_integral_error">10000</param>
    <param name="vel_kp">10</param>
    <param name="vel_ki">5</param>
    <param name="vel_kd">2</param>
    <param name="vel_max_integral_error">10000</param>
    </safety>
  </joint>
  <link name="Motor_square_3">
    <inertial><mass value="0.05"/><origin xyz="0 0 0"/>
      <inertia ixx="0.00016" iyy="0.00016" izz="0.00016" ixy="0" ixz="0" iyz="0"/></inertial>
    <visual   ><geometry><box size=" 0.05  0.05 0.1" /></geometry></visual>
    <collision><geometry><box size="0.05 0.05 0.1" /></geometry>
    <surface><friction><ode><mu>1.0</mu><mu2>1.0</mu2></ode></friction><contact><ode><kp>10</kp><kd>50</kd></ode></contact></surface>
    </collision>
  </link>
  <joint name="Motor_square_3_Join" type="fixed">
    <parent link="Connector_2"/>
    <child  link="Motor_square_3"/>
    <origin xyz="0 0 0.25" rpy="0 0 0" />
    <axis xyz="0 0 0"/>
    <dynamics damping="0.05" friction="2.5"/>
    <safety>
    <soft_lower_limit>-3.0</soft_lower_limit>
    <soft_upper_limit> 3.0</soft_upper_limit>
    <param name="pos_kp">10</param>
    <param name="pos_ki">1</param>
    <param name="pos_kd">2</param>
    <param name="pos_max_integral_error">10000</param>
    <param name="vel_kp">10</param>
    <param name="vel_ki">5</param>
    <param name="vel_kd">2</param>
    <param name="vel_max_integral_error">10000</param>
    </safety>
  </joint> 
  <link name="M4_50">
    <inertial><mass value="0.08158"/><origin xyz="0 0 0"/>
      <inertia ixx="0.00016" iyy="0.00016" izz="0.00016" ixy="0" ixz="0" iyz="0"/></inertial>
    <visual   ><geometry><cylinder radius="0.025" length="0.1"/></geometry></visual>
    <collision><geometry><cylinder radius="0.025" length="0.1"/></geometry>
    <surface><friction><ode><mu>1.0</mu><mu2>1.0</mu2></ode></friction><contact><ode><kp>10</kp><kd>50</kd></ode></contact></surface>
    </collision>
  </link>
  <joint name="articulacion5" type="revolute">
    <parent link="Motor_square_3"/>
    <child  link="M4_50"/>
    <origin xyz="0 0 0.05" rpy="-1.5708 0 0" />
    <axis xyz="0 0 1"/>
    <limit lower="-1.14" upper="1.14" effort="49.03325" velocity="1"/>
    <dynamics damping="0.05" friction="2.5"/>
    <safety>
    <soft_lower_limit>-1.0</soft_lower_limit>
    <soft_upper_limit> 1.0</soft_upper_limit>
    <param name="pos_kp">10</param>
    <param name="pos_ki">1</param>
    <param name="pos_kd">2</param>
    <param name="pos_max_integral_error">10000</param>
    <param name="vel_kp">10</param>
    <param name="vel_ki">5</param>
    <param name="vel_kd">2</param>
    <param name="vel_max_integral_error">10000</param>
    </safety>
  </joint>

  <link name="endEfector">
    <inertial><mass value="0.08158"/><origin xyz="0 0 0"/>
      <inertia ixx="0.00016" iyy="0.00016" izz="0.00016" ixy="0" ixz="0" iyz="0"/></inertial>
    <visual   ><geometry><box size=" 0.05  0.05 0.05" /></geometry></visual>
    <collision><geometry><box size="0.05 0.05 0.05" /></geometry>
    <surface><friction><ode><mu>1.0</mu><mu2>1.0</mu2></ode></friction><contact><ode><kp>10</kp><kd>50</kd></ode></contact></surface>
    </collision>
  </link>
  <joint name="endEfectorJoin" type="fixed">
    <parent link="Motor_square_3"/>
    <child  link="endEfector"/>
    <origin xyz="0 0 0.1" rpy="0 0 0" />
    <axis xyz="0 0 1"/>
    <dynamics damping="0.05" friction="2.5"/>
    <safety>
    <soft_lower_limit>-3.0</soft_lower_limit>
    <soft_upper_limit> 3.0</soft_upper_limit>
    <param name="pos_kp">10</param>
    <param name="pos_ki">1</param>
    <param name="pos_kd">2</param>
    <param name="pos_max_integral_error">10000</param>
    <param name="vel_kp">10</param>
    <param name="vel_ki">5</param>
    <param name="vel_kd">2</param>
    <param name="vel_max_integral_error">10000</param>
    </safety>
  </joint>

  <!-- Plugin para Gazebo ROS 2 Control -->
  
  <!-- Bloque ros2_control -->
  <ros2_control name="QuadrupedArmHardware" type="system">
    <hardware>
      <plugin>gazebo_ros2_control/GazeboSystem</plugin>
    </hardware>

    <!-- Interfaces de todas las articulaciones (piernas + brazo) -->
    <joint name="frontLeft_hip_motor_joint">
      <command_interface name="effort"/>
      <command_interface name="position"/>
      <state_interface name="position"/>
      <state_interface name="velocity"/>
      <state_interface name="effort"/>  
    </joint>
    <joint name="frontLeft_knee_joint">
      <command_interface name="effort"/>
      <command_interface name="position"/>
      <state_interface name="position"/>
      <state_interface name="velocity"/>
      <state_interface name="effort"/>  
    </joint>
    <joint name="frontLeft_ankle_joint">
      <command_interface name="effort"/>
      <command_interface name="position"/>
      <state_interface name="position"/>
      <state_interface name="velocity"/>
      <state_interface name="effort"/>  
    </joint>
    <joint name="frontRight_hip_motor_joint">
      <command_interface name="effort"/>
      <command_interface name="position"/>
      <state_interface name="position"/>
      <state_interface name="velocity"/>
      <state_interface name="effort"/>  
    </joint>
    <joint name="frontRight_knee_joint">
      <command_interface name="effort"/>
      <command_interface name="position"/>
      <state_interface name="position"/>
      <state_interface name="velocity"/>
      <state_interface name="effort"/>  
    </joint>
    <joint name="frontRight_ankle_joint">
      <command_interface name="effort"/>
      <command_interface name="position"/>
      <state_interface name="position"/>
      <state_interface name="velocity"/>
      <state_interface name="effort"/>  
    </joint>
    <joint name="backLeft_hip_motor_joint">
      <command_interface name="effort"/>
      <command_interface name="position"/>
      <state_interface name="position"/>
      <state_interface name="velocity"/>
      <state_interface name="effort"/>  
    </joint>
    <joint name="backLeft_knee_joint">
      <command_interface name="effort"/>
      <command_interface name="position"/>
      <state_interface name="position"/>
      <state_interface name="velocity"/>
      <state_interface name="effort"/>  
    </joint>
    <joint name="backLeft_ankle_joint">
      <command_interface name="effort"/>
      <command_interface name="position"/>
      <state_interface name="position"/>
      <state_interface name="velocity"/>
      <state_interface name="effort"/>  
    </joint>
    <joint name="backRight_hip_motor_joint">
      <command_interface name="effort"/>
      <command_interface name="position"/>
      <state_interface name="position"/>
      <state_interface name="velocity"/>
      <state_interface name="effort"/>  
    </joint>
    <joint name="backRight_knee_joint">
      <command_interface name="effort"/>
      <command_interface name="position"/>
      <state_interface name="position"/>
      <state_interface name="velocity"/>
      <state_interface name="effort"/>  
    </joint>
    <joint name="backRight_ankle_joint">
      <command_interface name="effort"/>
      <command_interface name="position"/>
      <state_interface name="position"/>
      <state_interface name="velocity"/>
      <state_interface name="effort"/>  
    </joint>
    <joint name="articulacion1">
    
      <command_interface name="effort"/>
      <command_interface name="position"/>
      <state_interface name="position"/>
      <state_interface name="velocity"/>
      <state_interface name="effort"/>  
    </joint>
    <joint name="articulacion2">
      <command_interface name="effort"/>
      <command_interface name="position"/>
      <state_interface name="position"/>
      <state_interface name="velocity"/>
      <state_interface name="effort"/>  
    </joint>
    <joint name="articulacion3">
      <command_interface name="effort"/>
      <command_interface name="position"/>
      <state_interface name="position"/>
      <state_interface name="velocity"/>
      <state_interface name="effort"/>  
    </joint>
    <joint name="articulacion4">
      <command_interface name="effort"/>
      <command_interface name="position"/>
      <state_interface name="position"/>
      <state_interface name="velocity"/>
      <state_interface name="effort"/>  
    </joint>
    <joint name="articulacion5">
      <command_interface name="effort"/>
      <command_interface name="position"/>
      <state_interface name="position"/>
      <state_interface name="velocity"/>
      <state_interface name="effort"/>  
    </joint>
  </ros2_control>
<!-- Pierna frontal izquierda -->
  <transmission name="frontLeft_hip_trans">
    <type>transmission_interface/SimpleTransmission</type>
    <joint name="frontLeft_hip_motor_joint">
      <hardwareInterface>hardware_interface/EffortJointInterface</hardwareInterface>
      <hardwareInterface>hardware_interface/PositionJointInterface</hardwareInterface>
    </joint>
    <actuator name="frontLeft_hip_motor_actuator">
      <mechanicalReduction>1</mechanicalReduction>
    </actuator>
  </transmission>
  <transmission name="frontLeft_knee_trans">
    <type>transmission_interface/SimpleTransmission</type>
    <joint name="frontLeft_knee_joint">
      <hardwareInterface>hardware_interface/EffortJointInterface</hardwareInterface>
      <hardwareInterface>hardware_interface/PositionJointInterface</hardwareInterface>
    </joint>
    <actuator name="frontLeft_knee_actuator">
      <mechanicalReduction>1</mechanicalReduction>
    </actuator>
  </transmission>
  <transmission name="frontLeft_ankle_trans">
    <type>transmission_interface/SimpleTransmission</type>
    <joint name="frontLeft_ankle_joint">
      <hardwareInterface>hardware_interface/EffortJointInterface</hardwareInterface>
      <hardwareInterface>hardware_interface/PositionJointInterface</hardwareInterface>
    </joint>
    <actuator name="frontLeft_ankle_actuator">
      <mechanicalReduction>1</mechanicalReduction>
    </actuator>
  </transmission>

  <!-- Pierna frontal derecha -->
  <transmission name="frontRight_hip_trans">
    <type>transmission_interface/SimpleTransmission</type>
    <joint name="frontRight_hip_motor_joint">
      <hardwareInterface>hardware_interface/EffortJointInterface</hardwareInterface>
      <hardwareInterface>hardware_interface/PositionJointInterface</hardwareInterface>
    </joint>
    <actuator name="frontRight_hip_motor_actuator">
      <mechanicalReduction>1</mechanicalReduction>
    </actuator>
  </transmission>
  <transmission name="frontRight_knee_trans">
    <type>transmission_interface/SimpleTransmission</type>
    <joint name="frontRight_knee_joint">
      <hardwareInterface>hardware_interface/EffortJointInterface</hardwareInterface>
      <hardwareInterface>hardware_interface/PositionJointInterface</hardwareInterface>
    </joint>
    <actuator name="frontRight_knee_actuator">
      <mechanicalReduction>1</mechanicalReduction>
    </actuator>
  </transmission>
  <transmission name="frontRight_ankle_trans">
    <type>transmission_interface/SimpleTransmission</type>
    <joint name="frontRight_ankle_joint">
      <hardwareInterface>hardware_interface/EffortJointInterface</hardwareInterface>
      <hardwareInterface>hardware_interface/PositionJointInterface</hardwareInterface>
    </joint>
    <actuator name="frontRight_ankle_actuator">
      <mechanicalReduction>1</mechanicalReduction>
    </actuator>
  </transmission>

  <!-- Pierna trasera izquierda -->
  <transmission name="backLeft_hip_trans">
    <type>transmission_interface/SimpleTransmission</type>
    <joint name="backLeft_hip_motor_joint">
      <hardwareInterface>hardware_interface/EffortJointInterface</hardwareInterface>
      <hardwareInterface>hardware_interface/PositionJointInterface</hardwareInterface>
    </joint>
    <actuator name="backLeft_hip_motor_actuator">
      <mechanicalReduction>1</mechanicalReduction>
    </actuator>
  </transmission>
  <transmission name="backLeft_knee_trans">
    <type>transmission_interface/SimpleTransmission</type>
    <joint name="backLeft_knee_joint">
      <hardwareInterface>hardware_interface/EffortJointInterface</hardwareInterface>
      <hardwareInterface>hardware_interface/PositionJointInterface</hardwareInterface>
    </joint>
    <actuator name="backLeft_knee_actuator">
      <mechanicalReduction>1</mechanicalReduction>
    </actuator>
  </transmission>
  <transmission name="backLeft_ankle_trans">
    <type>transmission_interface/SimpleTransmission</type>
    <joint name="backLeft_ankle_joint">
      <hardwareInterface>hardware_interface/EffortJointInterface</hardwareInterface>
      <hardwareInterface>hardware_interface/PositionJointInterface</hardwareInterface>
    </joint>
    <actuator name="backLeft_ankle_actuator">
      <mechanicalReduction>1</mechanicalReduction>
    </actuator>
  </transmission>

  <!-- Pierna trasera derecha -->
  <transmission name="backRight_hip_trans">
    <type>transmission_interface/SimpleTransmission</type>
    <joint name="backRight_hip_motor_joint">
      <hardwareInterface>hardware_interface/EffortJointInterface</hardwareInterface>
      <hardwareInterface>hardware_interface/PositionJointInterface</hardwareInterface>
    </joint>
    <actuator name="backRight_hip_motor_actuator">
      <mechanicalReduction>1</mechanicalReduction>
    </actuator>
  </transmission>
  <transmission name="backRight_knee_trans">
    <type>transmission_interface/SimpleTransmission</type>
    <joint name="backRight_knee_joint">
      <hardwareInterface>hardware_interface/EffortJointInterface</hardwareInterface>
      <hardwareInterface>hardware_interface/PositionJointInterface</hardwareInterface>
    </joint>
    <actuator name="backRight_knee_actuator">
      <mechanicalReduction>1</mechanicalReduction>
    </actuator>
  </transmission>
  <transmission name="backRight_ankle_trans">
    <type>transmission_interface/SimpleTransmission</type>
    <joint name="backRight_ankle_joint">
      <hardwareInterface>hardware_interface/EffortJointInterface</hardwareInterface>
      <hardwareInterface>hardware_interface/PositionJointInterface</hardwareInterface>
    </joint>
    <actuator name="backRight_ankle_actuator">
      <mechanicalReduction>1</mechanicalReduction>
    </actuator>
  </transmission>

  <!-- Brazo -->
  <transmission name="arm_joint1_trans">
    <type>transmission_interface/SimpleTransmission</type>
    <joint name="articulacion1">
      <hardwareInterface>hardware_interface/EffortJointInterface</hardwareInterface>
      <hardwareInterface>hardware_interface/PositionJointInterface</hardwareInterface>
    </joint>
    <actuator name="arm_joint1_actuator">
      <mechanicalReduction>1</mechanicalReduction>
    </actuator>
  </transmission>
  <transmission name="arm_joint2_trans">
    <type>transmission_interface/SimpleTransmission</type>
    <joint name="articulacion2">
      <hardwareInterface>hardware_interface/EffortJointInterface</hardwareInterface>
      <hardwareInterface>hardware_interface/PositionJointInterface</hardwareInterface>
    </joint>
    <actuator name="arm_joint2_actuator">
      <mechanicalReduction>1</mechanicalReduction>
    </actuator>
  </transmission>
  <transmission name="arm_joint3_trans">
    <type>transmission_interface/SimpleTransmission</type>
    <joint name="articulacion3">
      <hardwareInterface>hardware_interface/EffortJointInterface</hardwareInterface>
      <hardwareInterface>hardware_interface/PositionJointInterface</hardwareInterface>
    </joint>
    <actuator name="arm_joint3_actuator">
      <mechanicalReduction>1</mechanicalReduction>
    </actuator>
  </transmission>
  <transmission name="arm_joint4_trans">
    <type>transmission_interface/SimpleTransmission</type>
    <joint name="articulacion4">
      <hardwareInterface>hardware_interface/EffortJointInterface</hardwareInterface>
      <hardwareInterface>hardware_interface/PositionJointInterface</hardwareInterface>
    </joint>
    <actuator name="arm_joint4_actuator">
      <mechanicalReduction>1</mechanicalReduction>
    </actuator>
  </transmission>
  <transmission name="arm_joint5_trans">
    <type>transmission_interface/SimpleTransmission</type>
    <joint name="articulacion5">
      <hardwareInterface>hardware_interface/EffortJointInterface</hardwareInterface>
      <hardwareInterface>hardware_interface/PositionJointInterface</hardwareInterface>
    </joint>
    <actuator name="arm_joint5_actuator">
      <mechanicalReduction>1</mechanicalReduction>
    </actuator>
  </transmission>
  <gazebo>
    <plugin filename="libgazebo_ros2_control.so" name="gazebo_ros2_control">
      <robot_sim_type>gazebo_ros2_control/GazeboSystem</robot_sim_type>
      <hold_joints>true</hold_joints>
      <parameters>[local-path]/ros2_orange/src/quadruped_arm_motion/config/controllers.yaml</parameters>
    </plugin>
     <physics type="ode">
    <max_contacts>20</max_contacts>
    <contact_surface_layer>0.001</contact_surface_layer>
    <contact_max_correcting_vel>2.0</contact_max_correcting_vel>
  </physics>
  </gazebo>

  <gazebo reference="frontLeft_foot">
    <sensor name="frontLeft_contact" type="contact">
      <!-- Siempre activo -->
      <always_on>1</always_on>
      <!-- Frecuencia de muestreo -->
      <update_rate>100</update_rate>
      <!-- No dibujar la caja en Gazebo/OGRE -->
      <visualize>false</visualize>
      <!-- Indica con qué colisión detecta el contacto -->
      <contact>
        <collision>r_foot_collision</collision>
        <topic>/r_foot_contact</topic>
      </contact>
    </sensor>
  </gazebo>
  
</robot>
